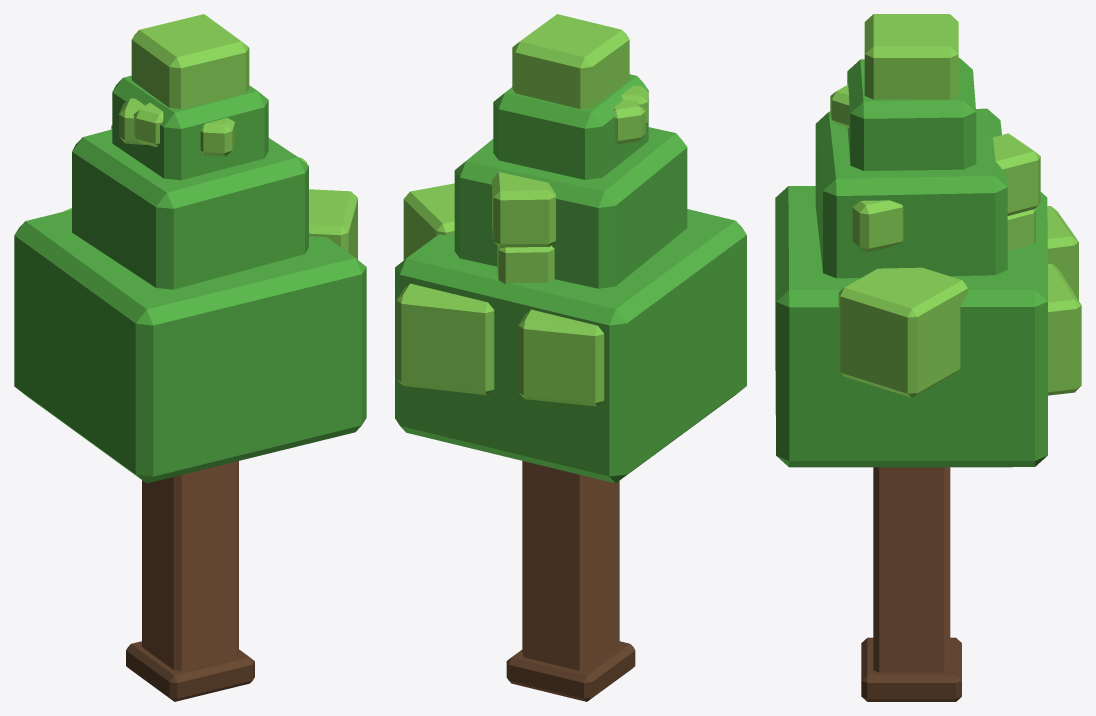
File: VoxelTreeTall.fbx
3 views of the same model, side by side, from view 1: azimuth 30°, elevation 25°; view 2: azimuth 150°, elevation 25°; view 3: azimuth 270°, elevation 25° (orthographic).
Visible parts, largest first — view 1: VoxelTreeTall_Leaf, VoxelTreeTall_Bark, VoxelTreeTall_LeafLight, VoxelTreeTall_BarkDark; view 2: VoxelTreeTall_Leaf, VoxelTreeTall_LeafLight, VoxelTreeTall_Bark, VoxelTreeTall_BarkDark; view 3: VoxelTreeTall_Leaf, VoxelTreeTall_LeafLight, VoxelTreeTall_Bark, VoxelTreeTall_BarkDark.
Part boxes in pixels (box(x1,y1,x2,y2)): VoxelTreeTall_Leaf: box(14, 75, 366, 483); VoxelTreeTall_Bark: box(142, 461, 238, 670); VoxelTreeTall_LeafLight: box(63, 14, 357, 259); VoxelTreeTall_BarkDark: box(126, 641, 254, 701); VoxelTreeTall_Leaf: box(395, 74, 746, 483); VoxelTreeTall_LeafLight: box(396, 14, 648, 406); VoxelTreeTall_Bark: box(522, 461, 619, 670); VoxelTreeTall_BarkDark: box(506, 641, 635, 701); VoxelTreeTall_Leaf: box(775, 58, 1047, 467); VoxelTreeTall_LeafLight: box(830, 14, 1081, 397); VoxelTreeTall_Bark: box(873, 467, 950, 672); VoxelTreeTall_BarkDark: box(861, 637, 961, 701).
Bounding box in the file's own units: 560 × 1219 × 518.
